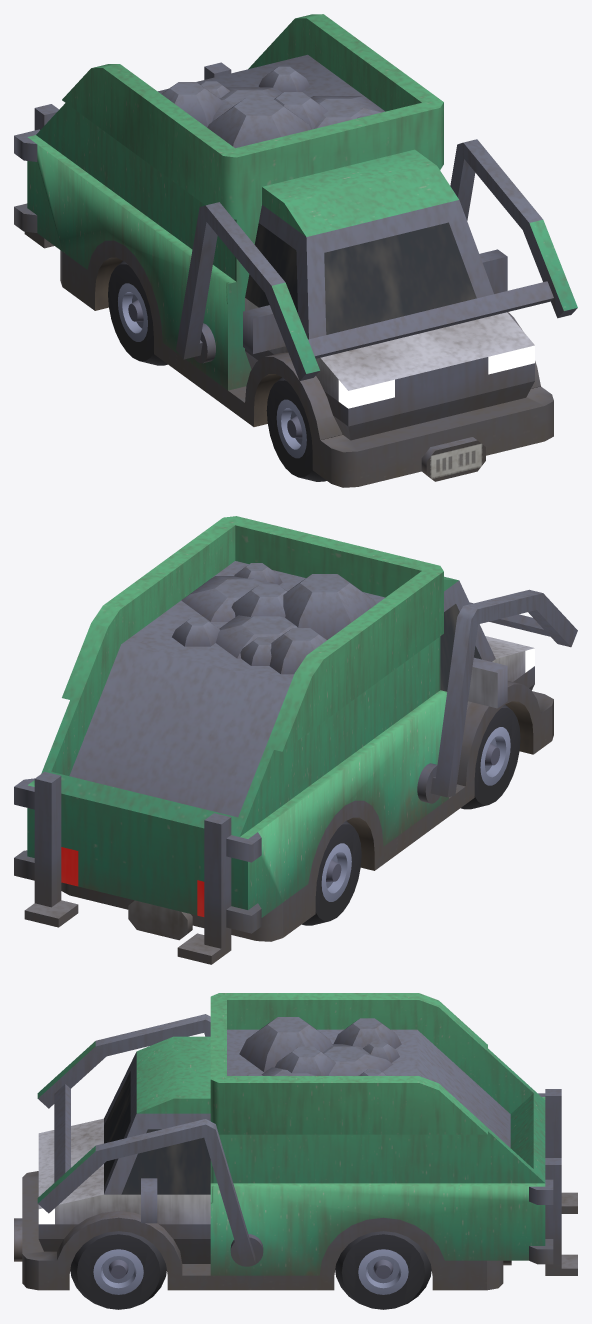
Rendered from garbage-truck-L3.glb.
The picture shows the model from 3 angles, top to bottom: view 1: azimuth 30°, elevation 25°; view 2: azimuth 150°, elevation 25°; view 3: azimuth 270°, elevation 25°; orthographic projection. The views are drawn at different scales.
Visible parts, largest first — view 1: body, arm, trash, wheel-back-right, wheel-front-right; view 2: body, trash, arm, wheel-front-right, wheel-back-right; view 3: body, arm, trash, wheel-front-left, wheel-back-left.
Boxes of the visible parts, <box> form: body: <box>14,14,553,487</box>; arm: <box>176,139,577,380</box>; trash: <box>161,66,385,148</box>; wheel-back-right: <box>108,261,167,365</box>; wheel-front-right: <box>266,377,326,481</box>; body: <box>14,516,553,964</box>; trash: <box>172,563,376,674</box>; arm: <box>417,589,577,803</box>; wheel-front-right: <box>461,704,520,809</box>; wheel-back-right: <box>302,821,361,925</box>; body: <box>14,993,577,1290</box>; arm: <box>37,1014,263,1266</box>; trash: <box>239,1017,401,1075</box>; wheel-front-left: <box>70,1231,166,1309</box>; wheel-back-left: <box>335,1231,431,1309</box>.
Size of the model in its own units: 1.6 by 1.6 by 3.45.
7 materials, 7 textured.
